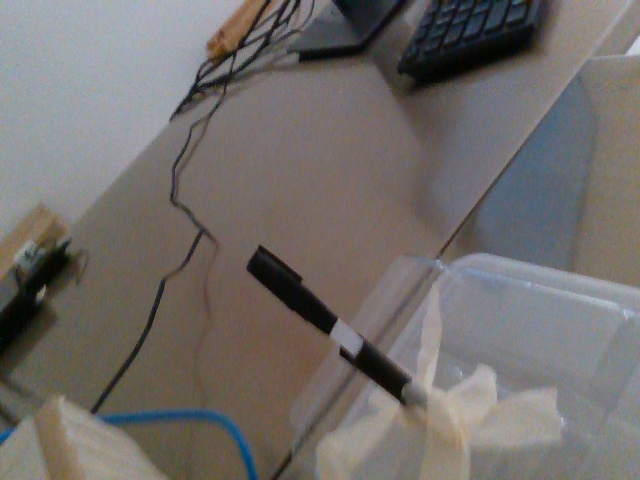test_strip: (243, 242, 363, 357)
